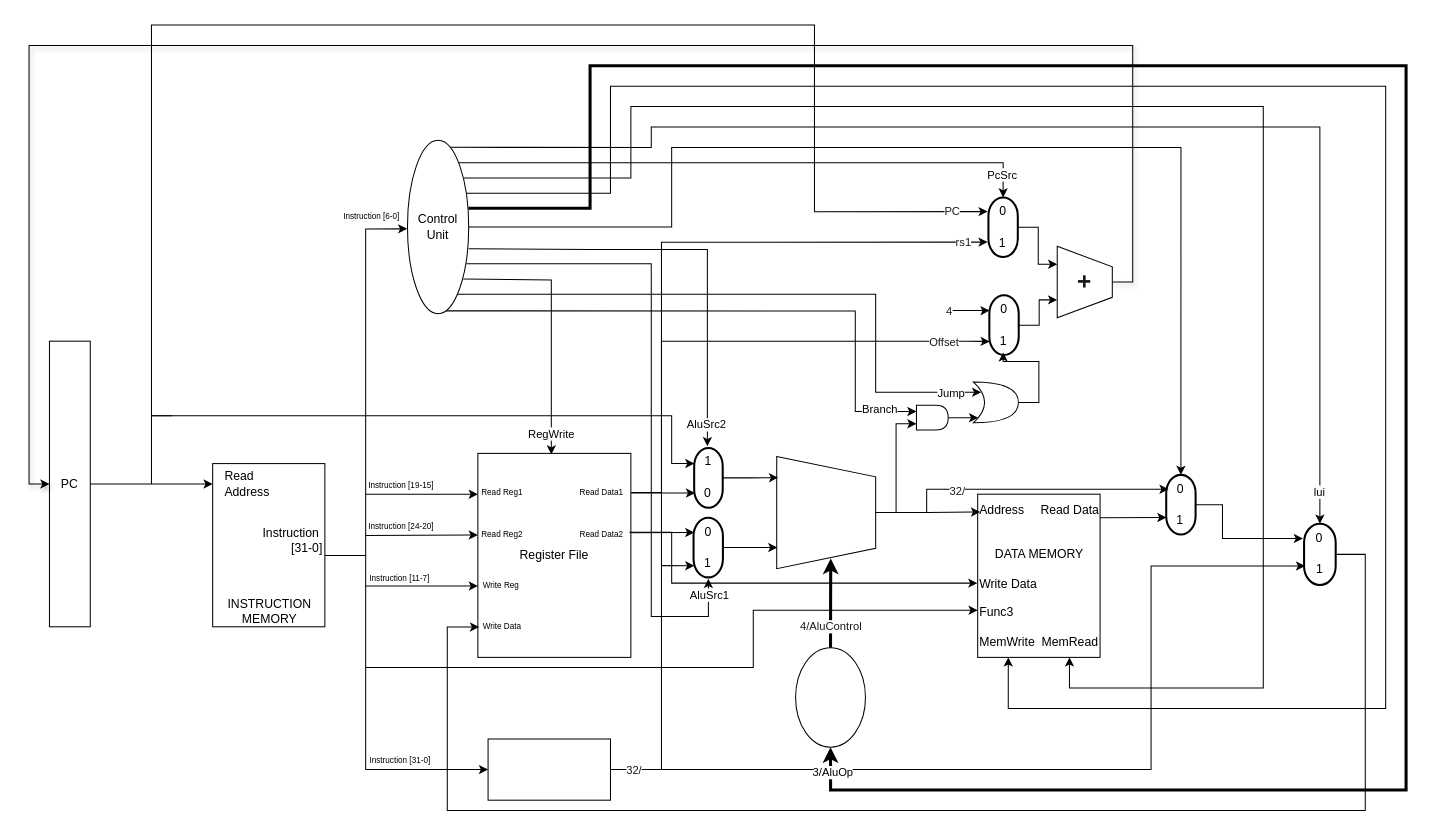
The diagram is 1433 pixels wide and 836 high, and some of its shapes have lost their labels. The shapes that lost their labels are listed below. From the top down, each one's centre as x and y in pixels, then its label:
At [826,512]: "Result ALU Op1 Op2".
At [830,697]: "ALU Control Unit".
At [548,769]: "Immediate Generator".
